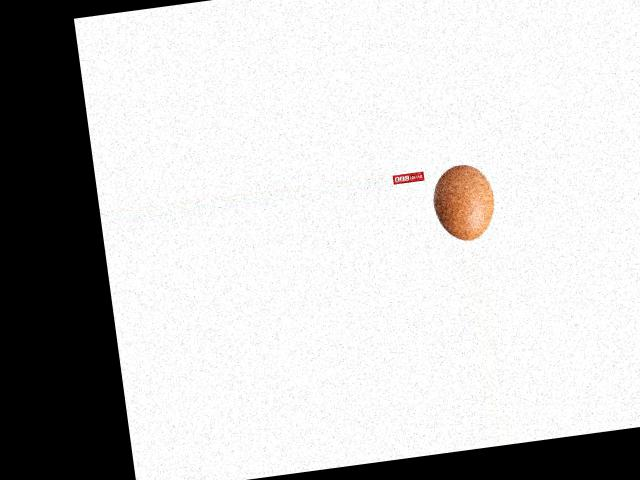egg: (430, 161, 499, 243)
